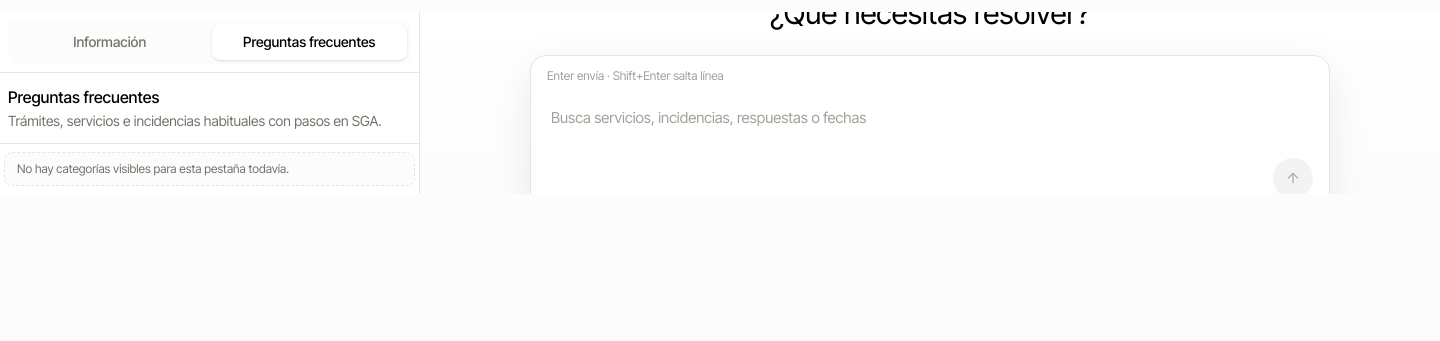
RagWorkbench search flow › shows results only after typing and opens selected content in the detail panel
Check: the button "error en solicitud" is not shown
Type "certificado" into the text box.
click(930, 118); type("certificado")  # box top-left (547, 96), bottom-right (1313, 140)
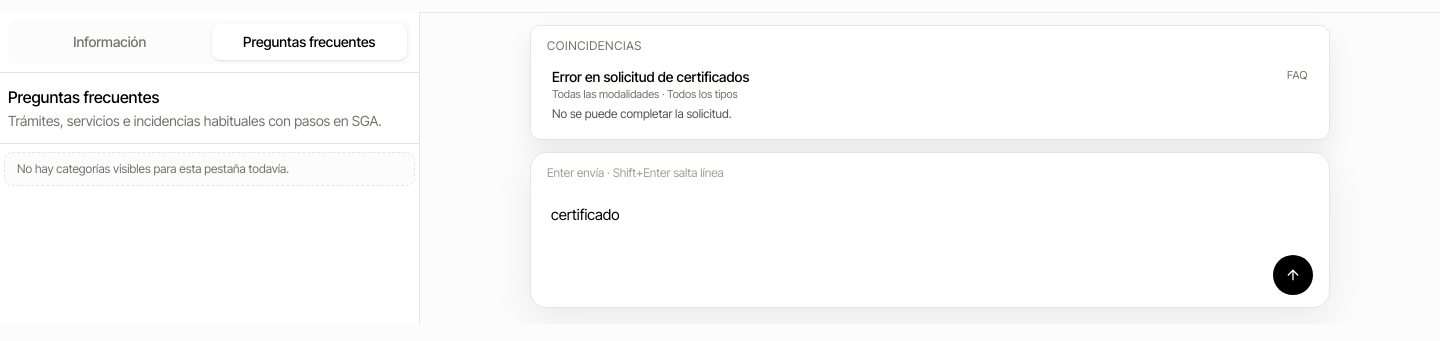
Click the button "Error en solicitud de certificados".
click(651, 76)  # box top-left (539, 58), bottom-right (1321, 131)
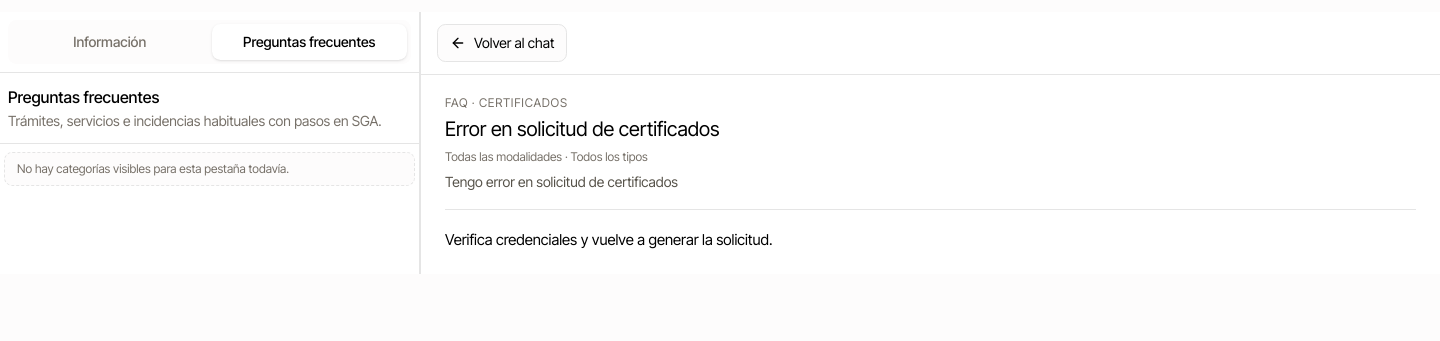
Check: the button "Volver al chat" is shown, box top-left (437, 24), bottom-right (567, 62)
Check: the text "Verifica credenciales y vuelve a generar la solicitud." is shown, box top-left (445, 230), bottom-right (773, 249)
